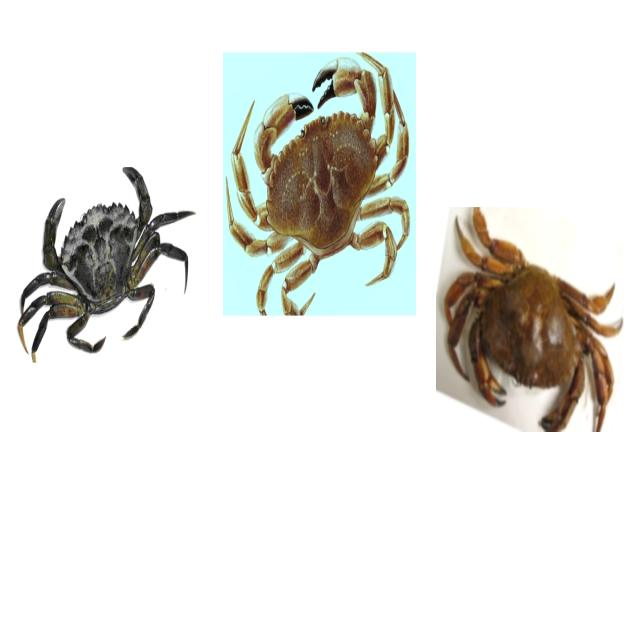egc: (16, 167, 198, 367)
jonah_crab: (223, 49, 417, 312)
rock_crab: (434, 200, 629, 436)
